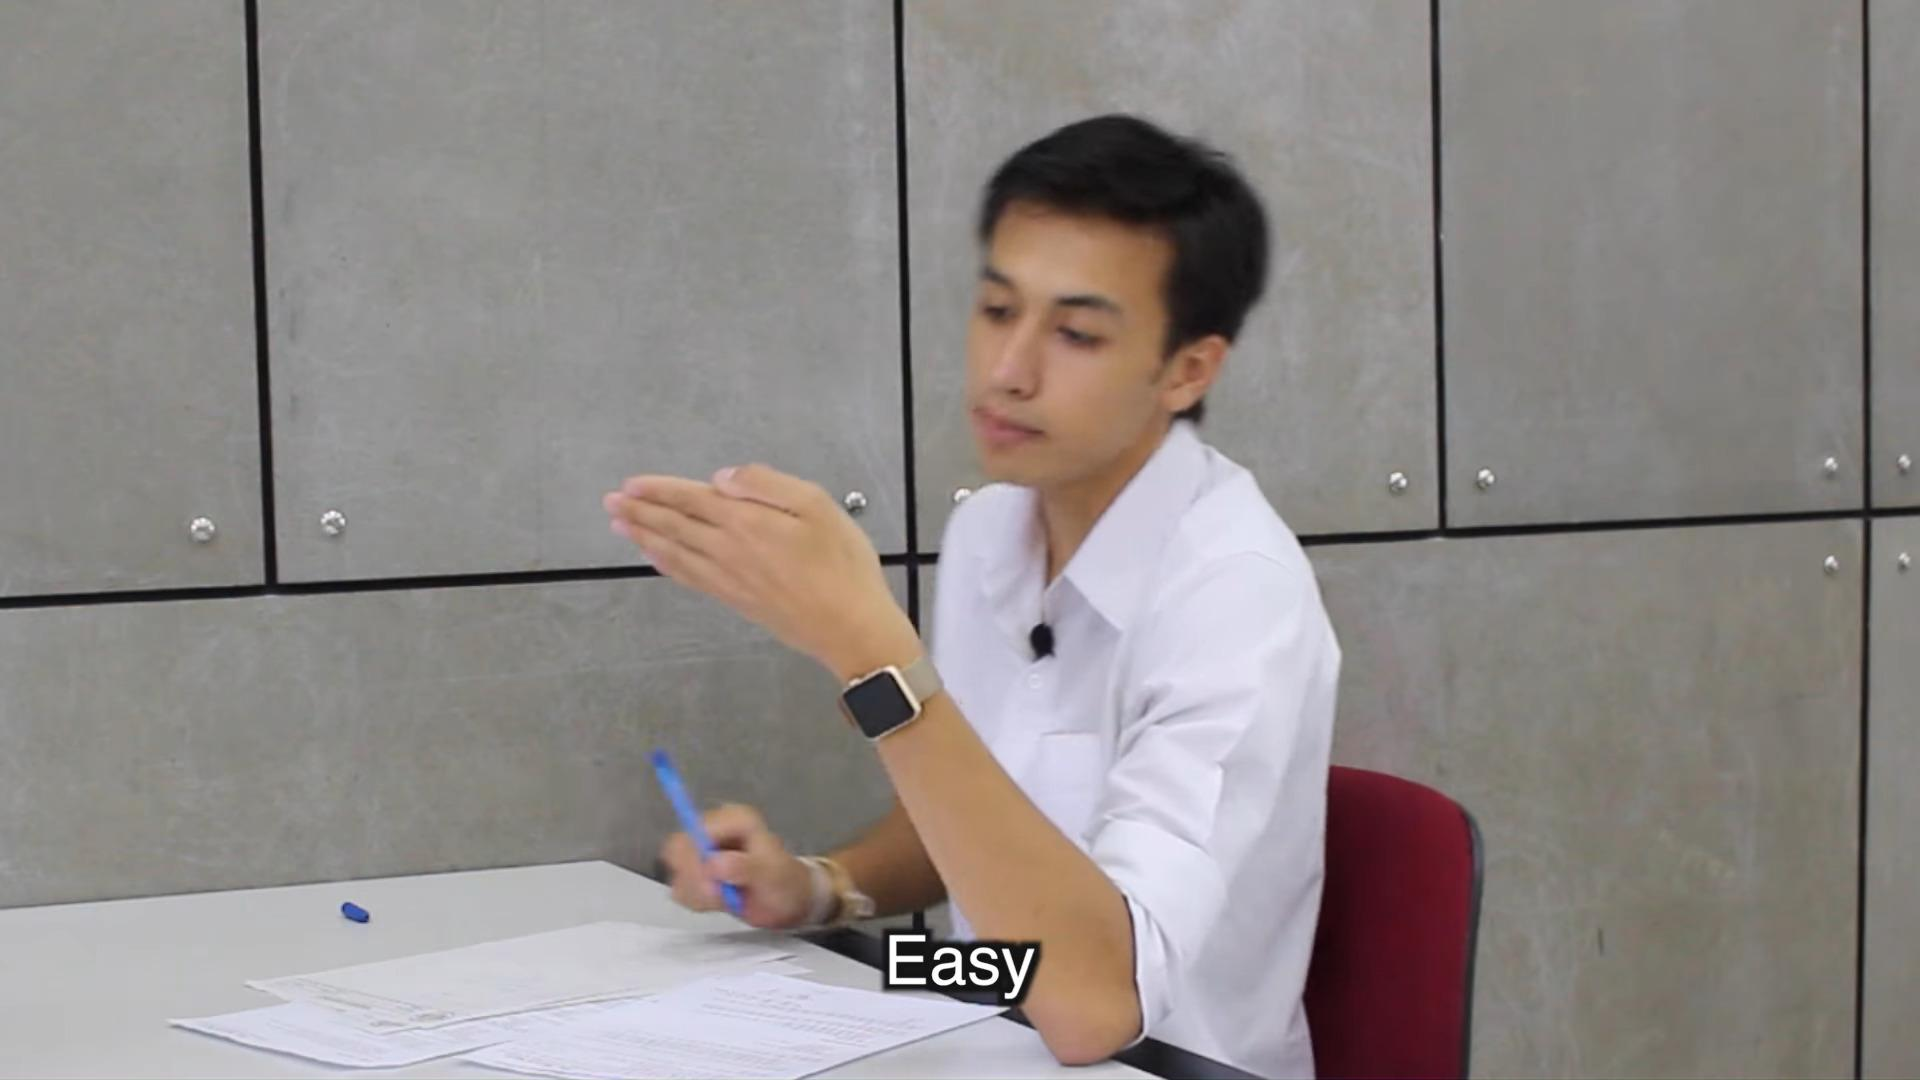cheating: (575, 108, 1395, 932)
